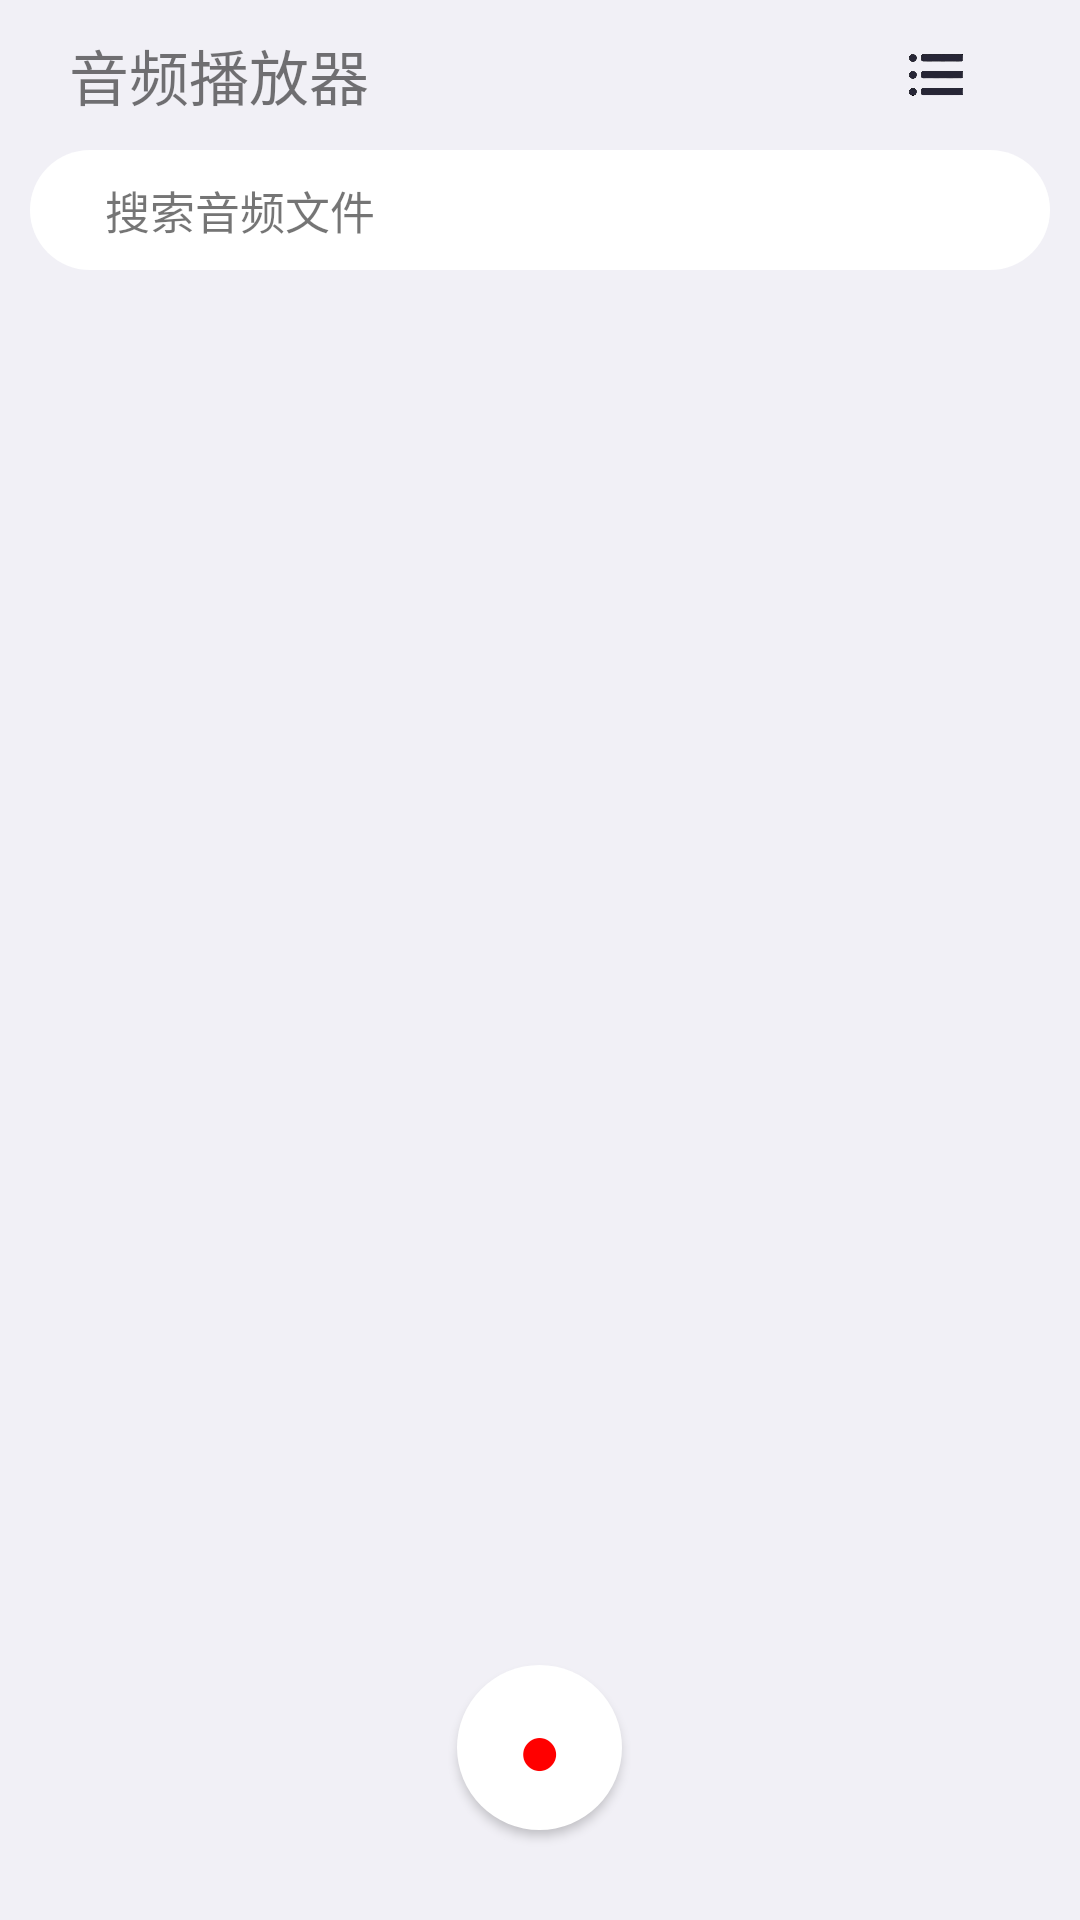

Icon click points for this 1080*1920 phone screenshot, format (x=x, y=y):
option: (x=936, y=75)
